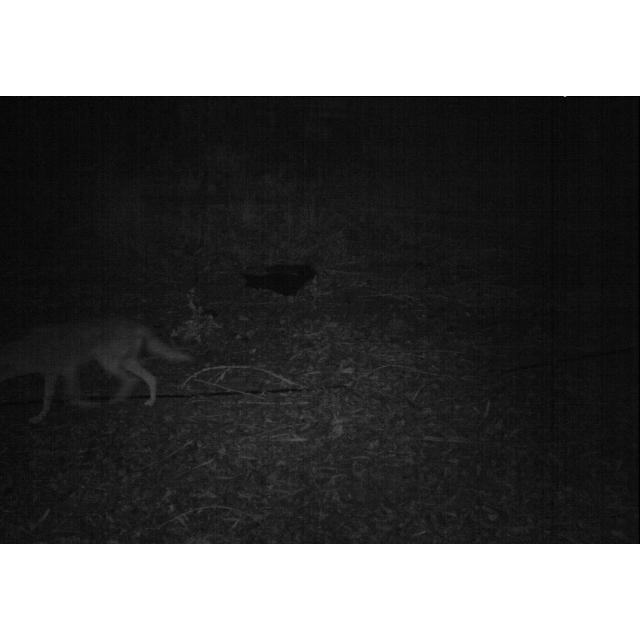animals: (1, 310, 198, 426)
